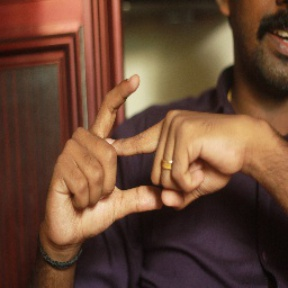E: (73, 77, 178, 216)
